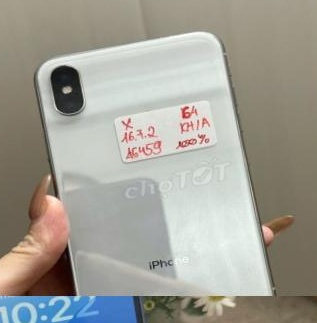scratch: (149, 29, 192, 48), (256, 290, 279, 296)
